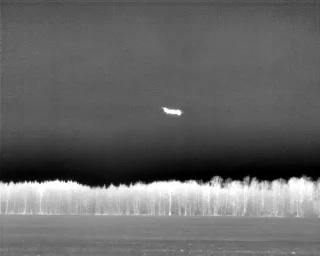DRONE: (158, 102, 186, 121)
